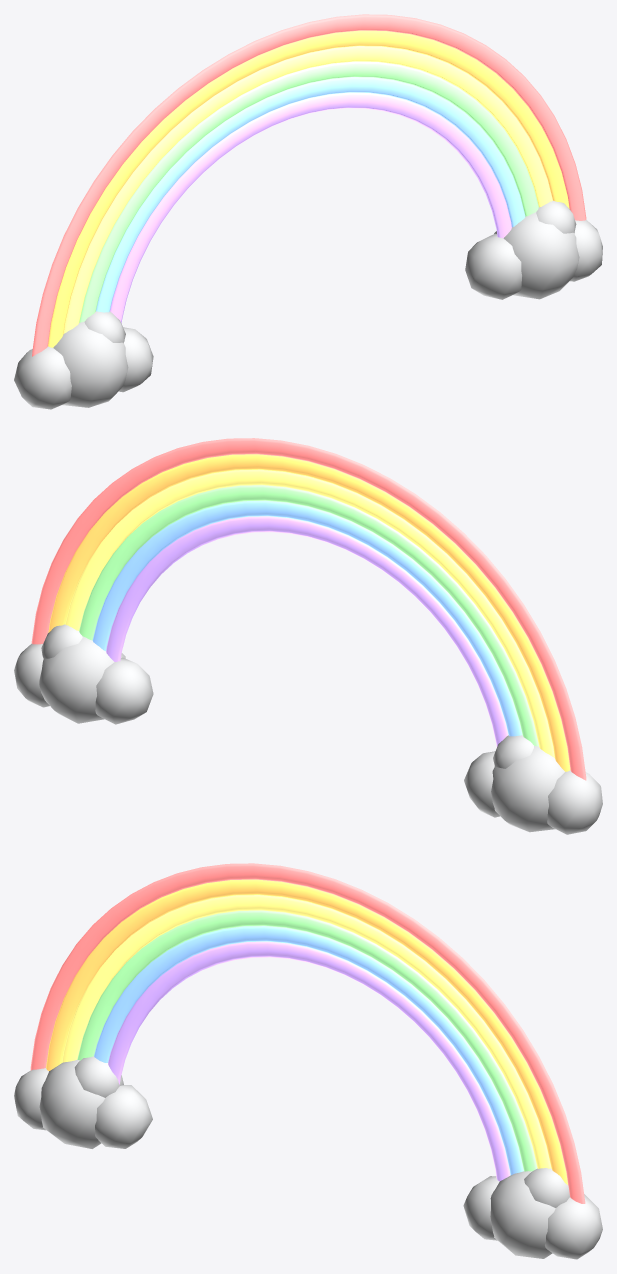
Rendered from rainbow.glb.
The picture shows the model from 3 angles, top to bottom: view 1: azimuth 30°, elevation 25°; view 2: azimuth 150°, elevation 25°; view 3: azimuth 330°, elevation 25°; orthographic projection.
Parts seen in each view (by area): view 1: Rainbow; view 2: Rainbow; view 3: Rainbow.
Part boxes in pixels (<box>): Rainbow: <box>14,14,602,409</box>; Rainbow: <box>14,438,602,834</box>; Rainbow: <box>14,863,602,1259</box>.
Size of the model in its own units: 12.85 by 6.96 by 1.81.
